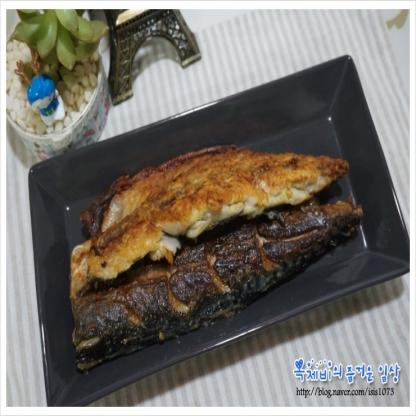Peixe: (49, 128, 355, 358)
